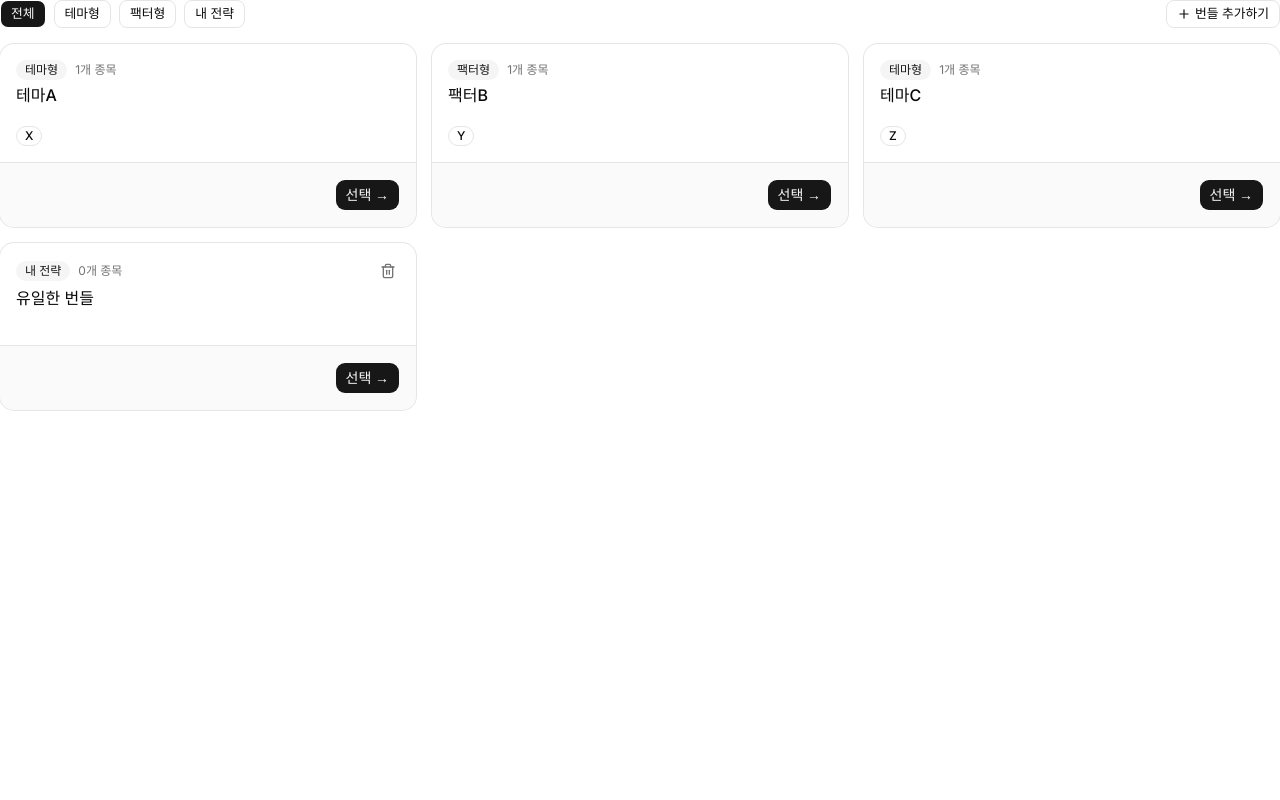
BundleGallery — custom bundle › 활성 필터 카테고리의 마지막 번들 삭제 후 전체 필터로 리셋된다
The image size is (1280, 800).
Click the button "내 전략": (215, 14) [184,0,245,28]
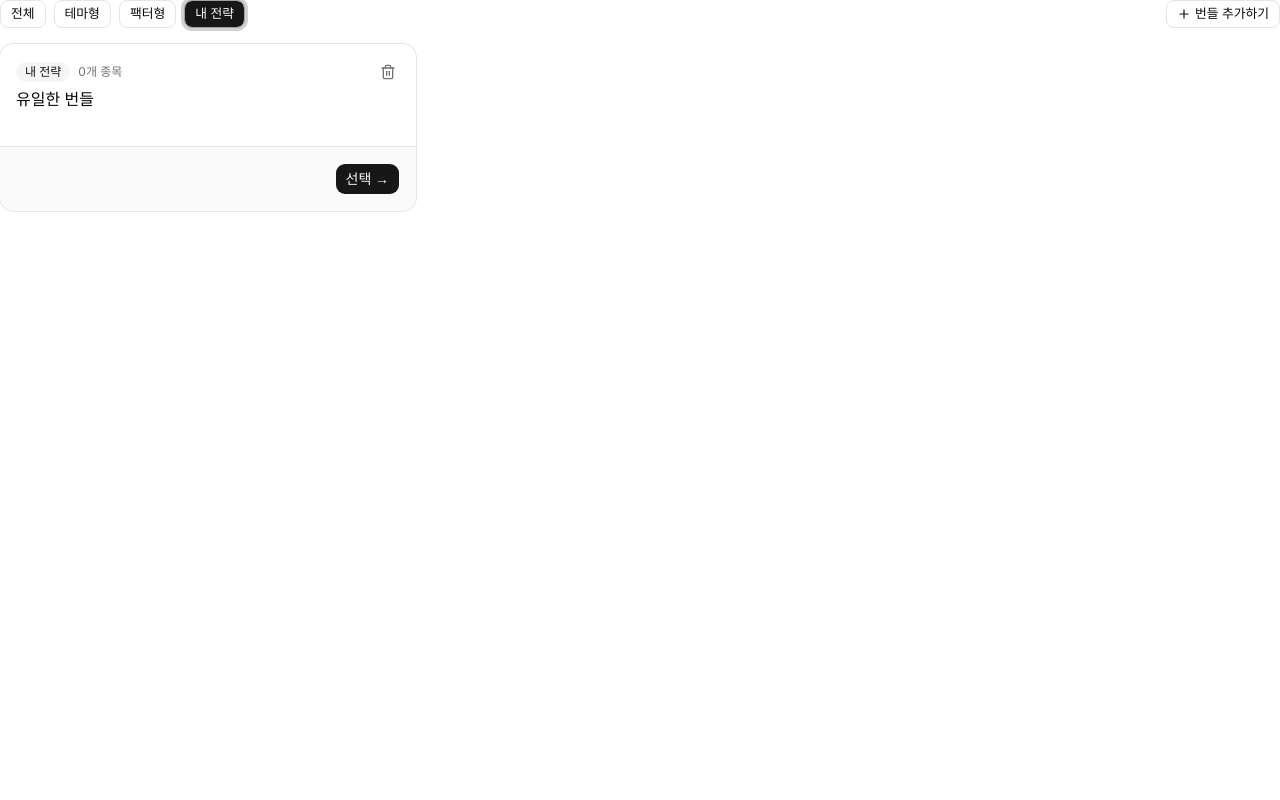
Expected: the text "유일한 번들" is shown, [16,89,94,109]
Click the button named "삭제": (388, 72) [376,60,400,84]
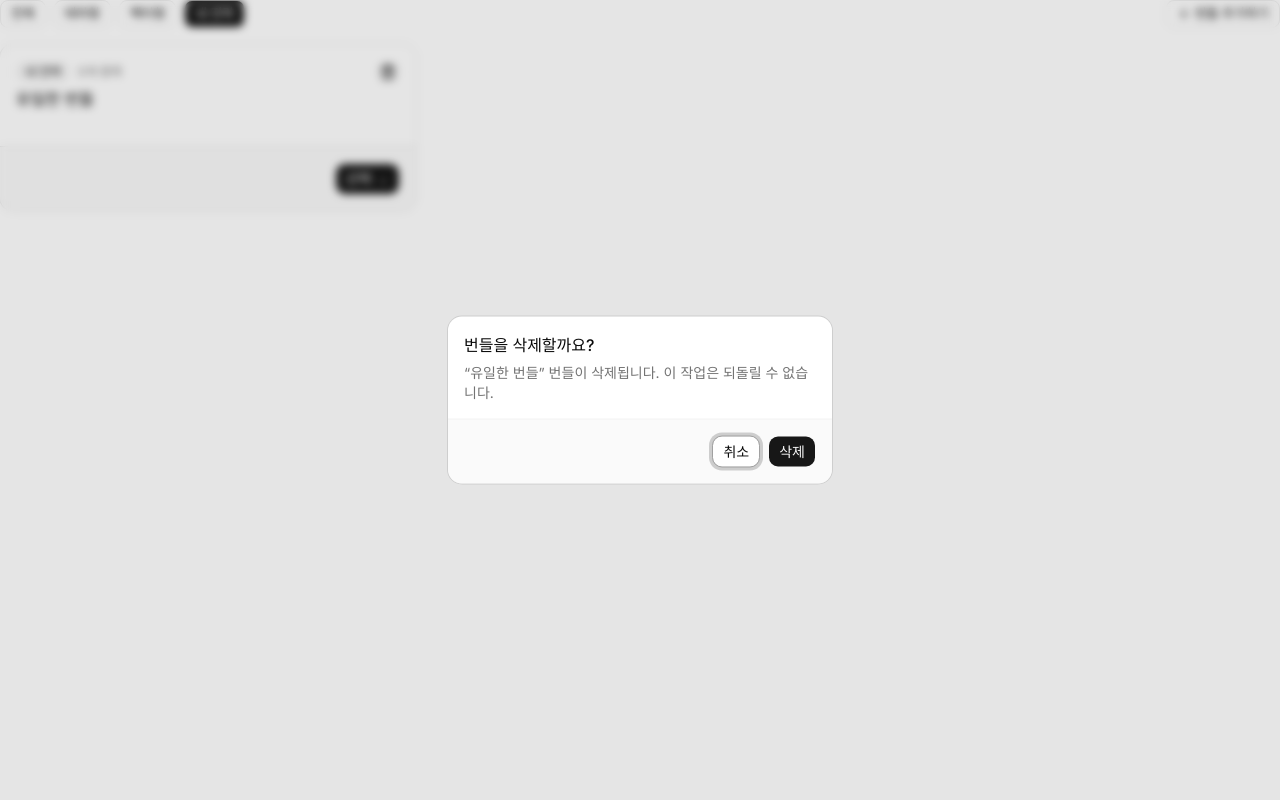
Click the button "삭제": (792, 452) [768,436,816,468]
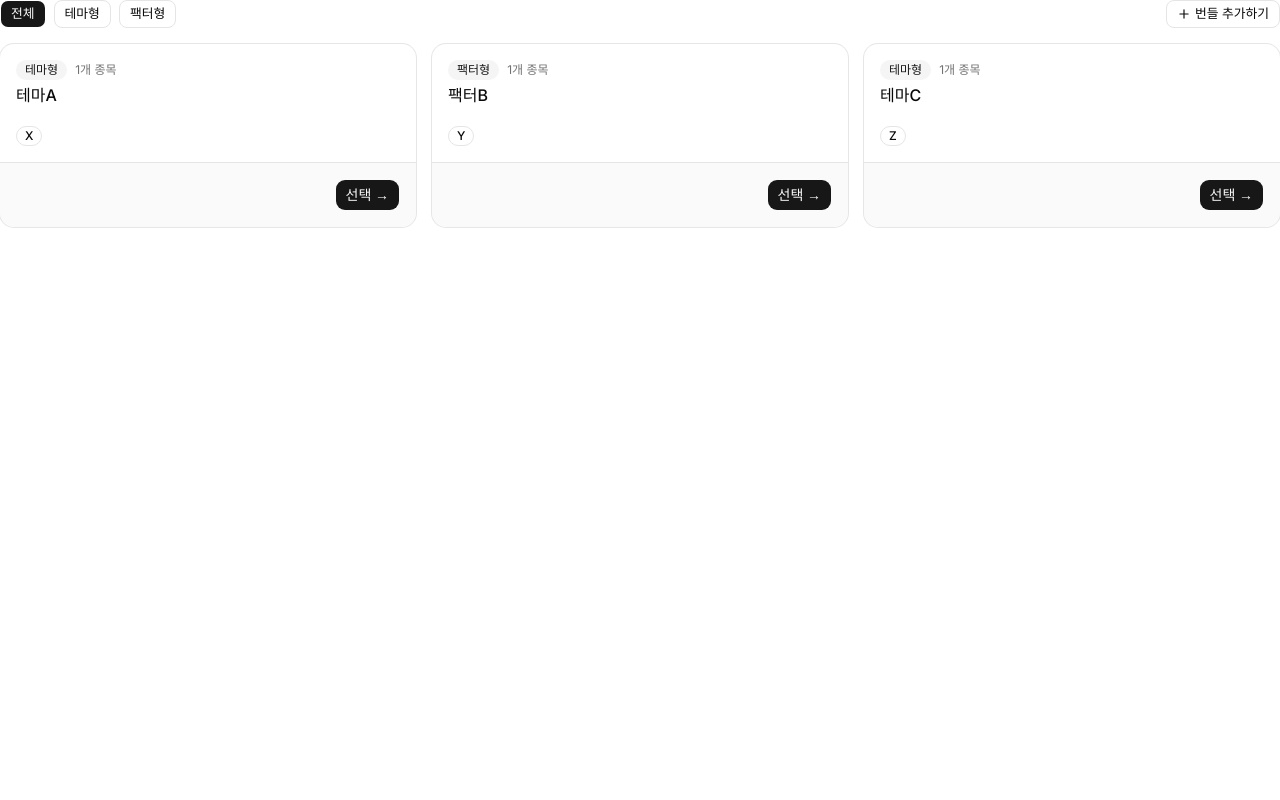
Expected: the text "테마A" is shown, [16,85,57,105]
